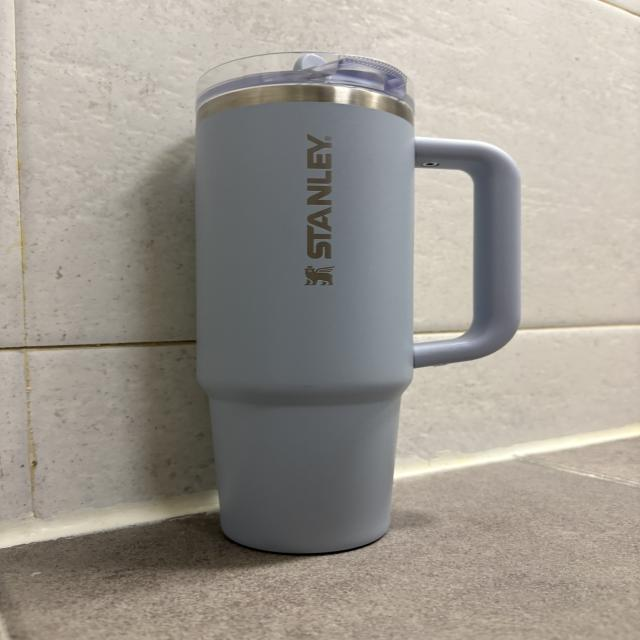waterbottle: (196, 51, 520, 554)
